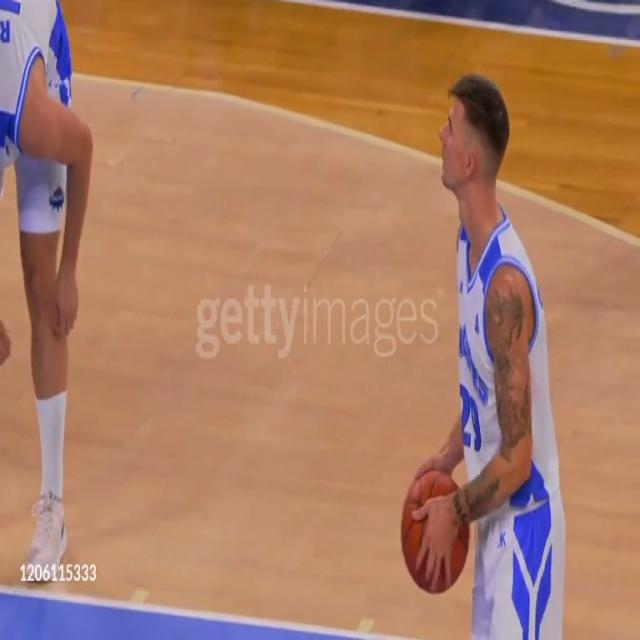ball: (401, 471, 472, 596)
